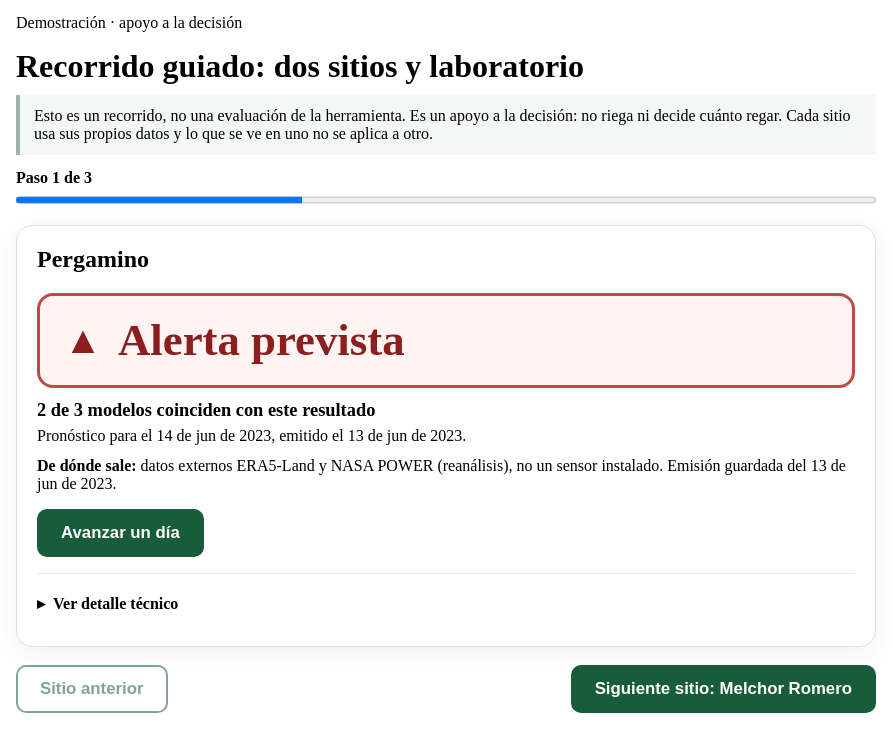
Test: Pergamino y Melchor Romero › leaves no current traffic light next to the alert when the readings request fails
The image size is (893, 730).
Check: the text "Alerta prevista" is shown, box left=118, top=316, right=404, bottom=365
Click the button "Avanzar un día" at (120, 533), box left=37, top=509, right=204, bottom=557
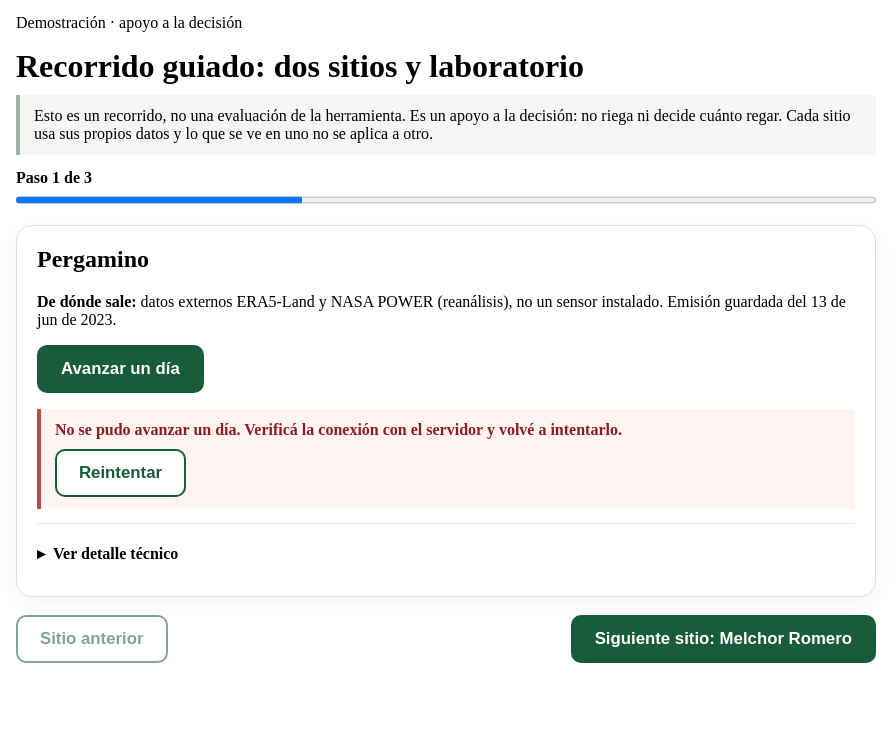
Check: the message is shown, box left=37, top=408, right=855, bottom=508
Check: the text "Alerta prevista" is gone
